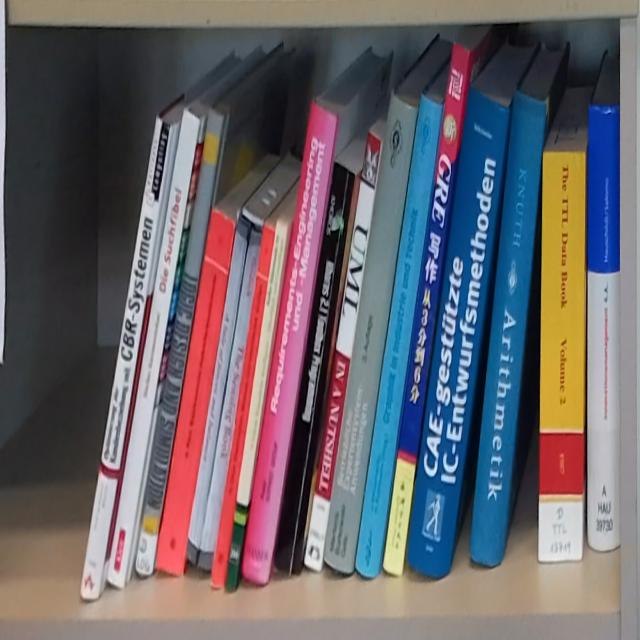Book Spine: (406, 85, 509, 579), (382, 38, 470, 579), (240, 102, 337, 583), (324, 90, 420, 575), (79, 115, 174, 602), (107, 108, 201, 591), (355, 91, 443, 579), (135, 108, 226, 576), (470, 91, 547, 571), (272, 162, 355, 576), (304, 132, 380, 575), (155, 210, 235, 575), (187, 215, 262, 569), (210, 226, 275, 590), (225, 223, 288, 593), (538, 153, 586, 562), (588, 106, 620, 555)
